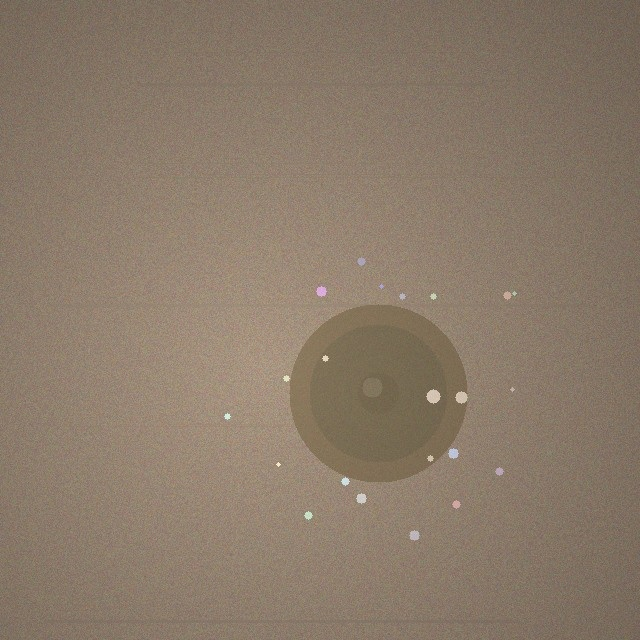overburn: (289, 304, 467, 482)
